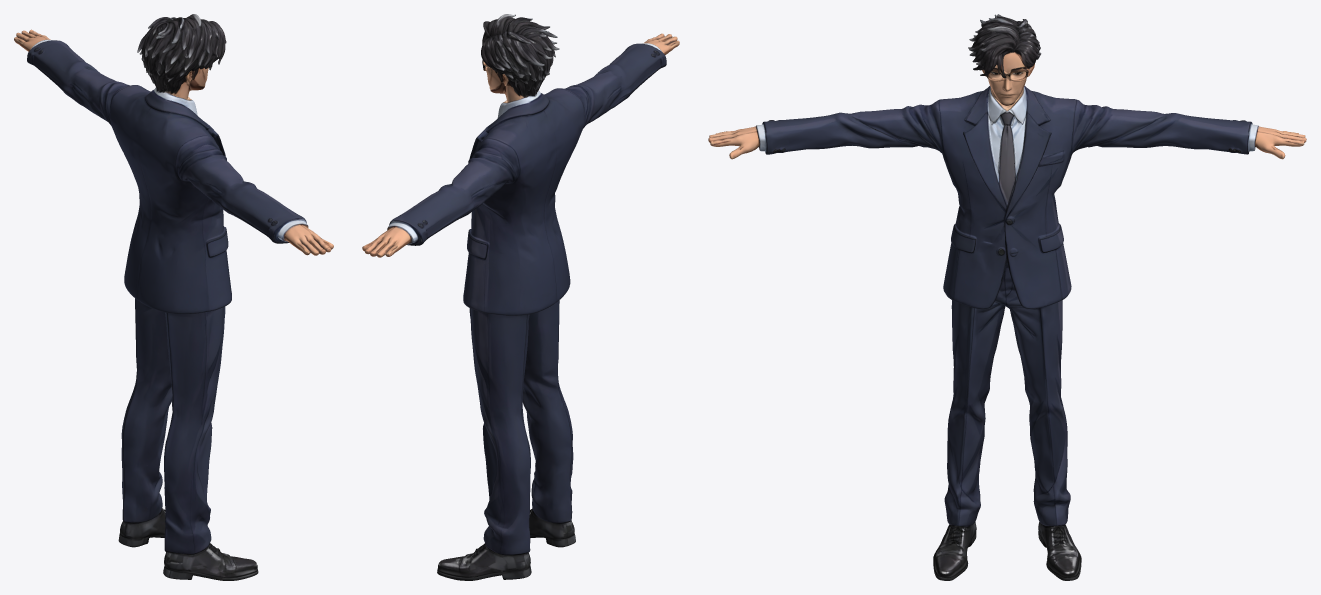
Rendered from salaryman-visitor-03.glb.
3 renders of one model, left to right at view 1: azimuth 30°, elevation 25°; view 2: azimuth 150°, elevation 25°; view 3: azimuth 270°, elevation 25°, orthographic.
Visible parts, largest first — view 1: tripo_node_4fd82d68-b122-4152-8423-0ae8c4cfe8e7; view 2: tripo_node_4fd82d68-b122-4152-8423-0ae8c4cfe8e7; view 3: tripo_node_4fd82d68-b122-4152-8423-0ae8c4cfe8e7.
Boxes of the visible parts, <box> form: tripo_node_4fd82d68-b122-4152-8423-0ae8c4cfe8e7: <box>14,14,333,580</box>; tripo_node_4fd82d68-b122-4152-8423-0ae8c4cfe8e7: <box>362,14,679,580</box>; tripo_node_4fd82d68-b122-4152-8423-0ae8c4cfe8e7: <box>708,14,1306,580</box>.
Bounding box in the file's own units: 0.1698 × 0.9964 × 1.
1 material, 1 textured.
